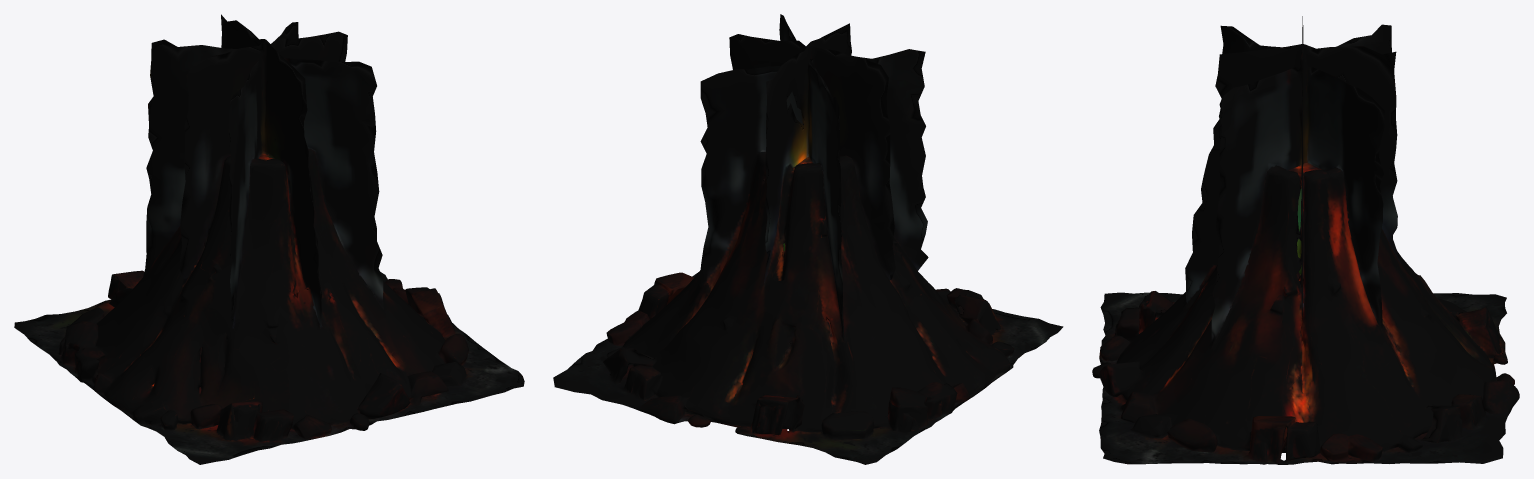
The model's file is volcano.glb.
The picture shows the model from 3 angles, left to right: view 1: azimuth 30°, elevation 25°; view 2: azimuth 150°, elevation 25°; view 3: azimuth 270°, elevation 25°; orthographic projection. The views are drawn at different scales.
Visible parts, largest first — view 1: geometry_0; view 2: geometry_0; view 3: geometry_0.
Part boxes in pixels (x1,y1,x2,y2): geometry_0: (14,14,524,464); geometry_0: (553,14,1063,464); geometry_0: (1092,16,1519,464).
Size of the model in its own units: 0.9587 by 0.867 by 0.9953.
Materials: 1 (1 with a texture image).
